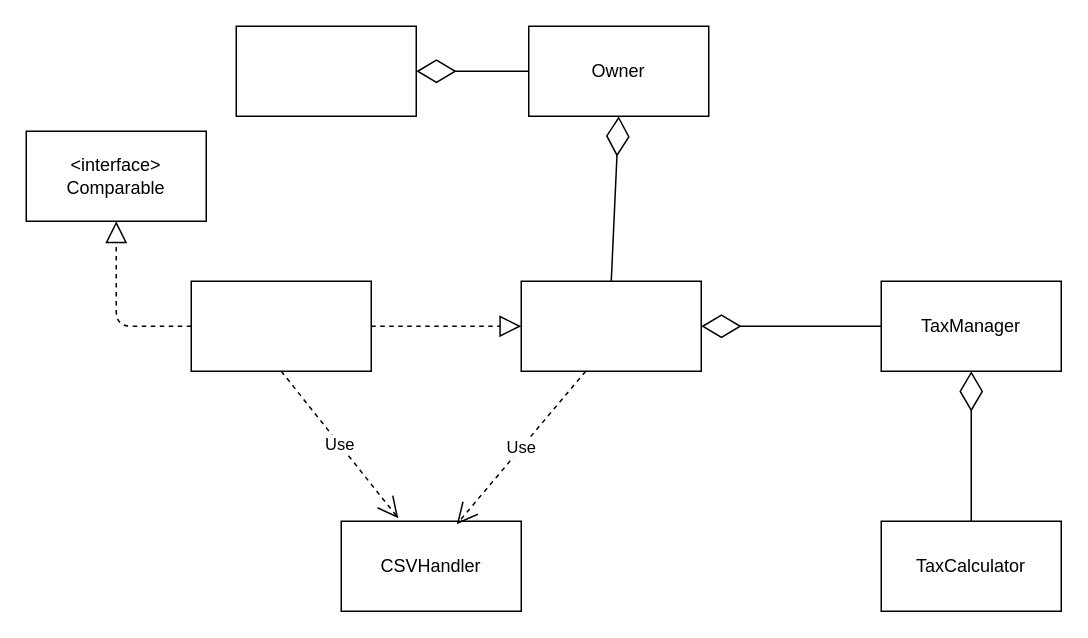
This 1088x638 diagram has some shape labels left out. Here are the shapes that lost their labels. From the top down, the box of each, then its label:
(235, 25, 416, 116): Menu
(190, 280, 371, 371): Payment
(520, 280, 701, 371): Property
